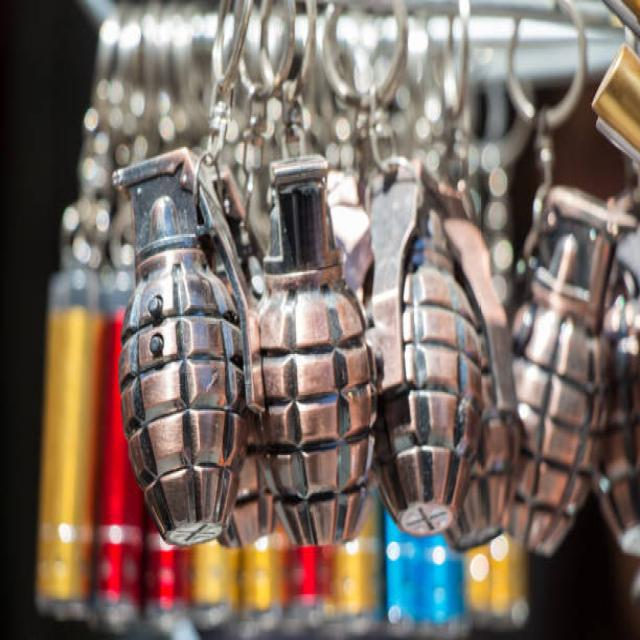grenade: (101, 153, 269, 562)
